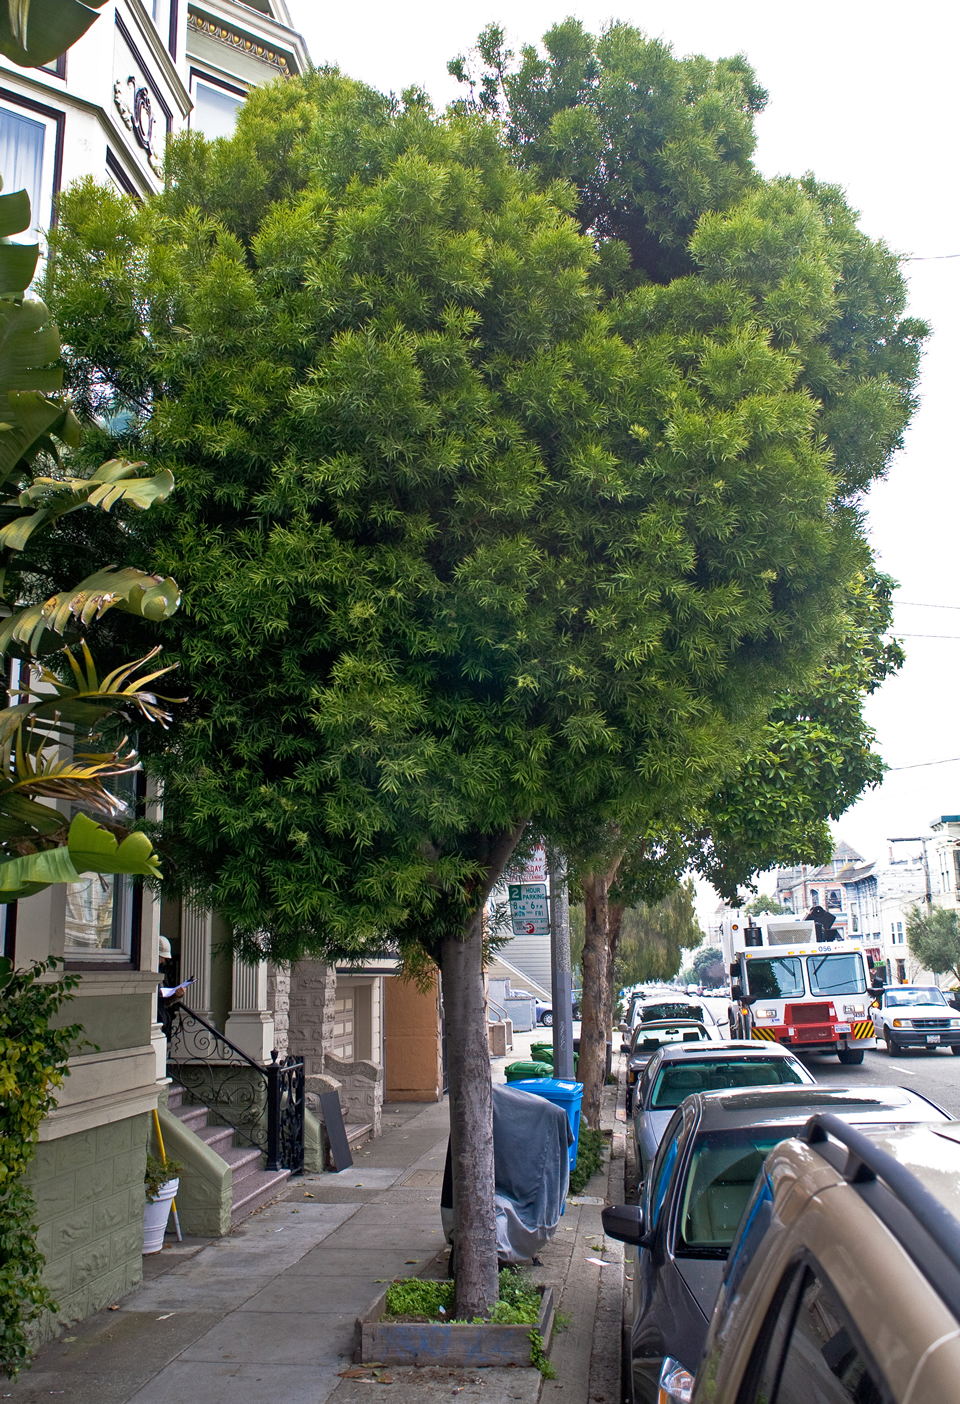tree: (33, 60, 875, 1323)
